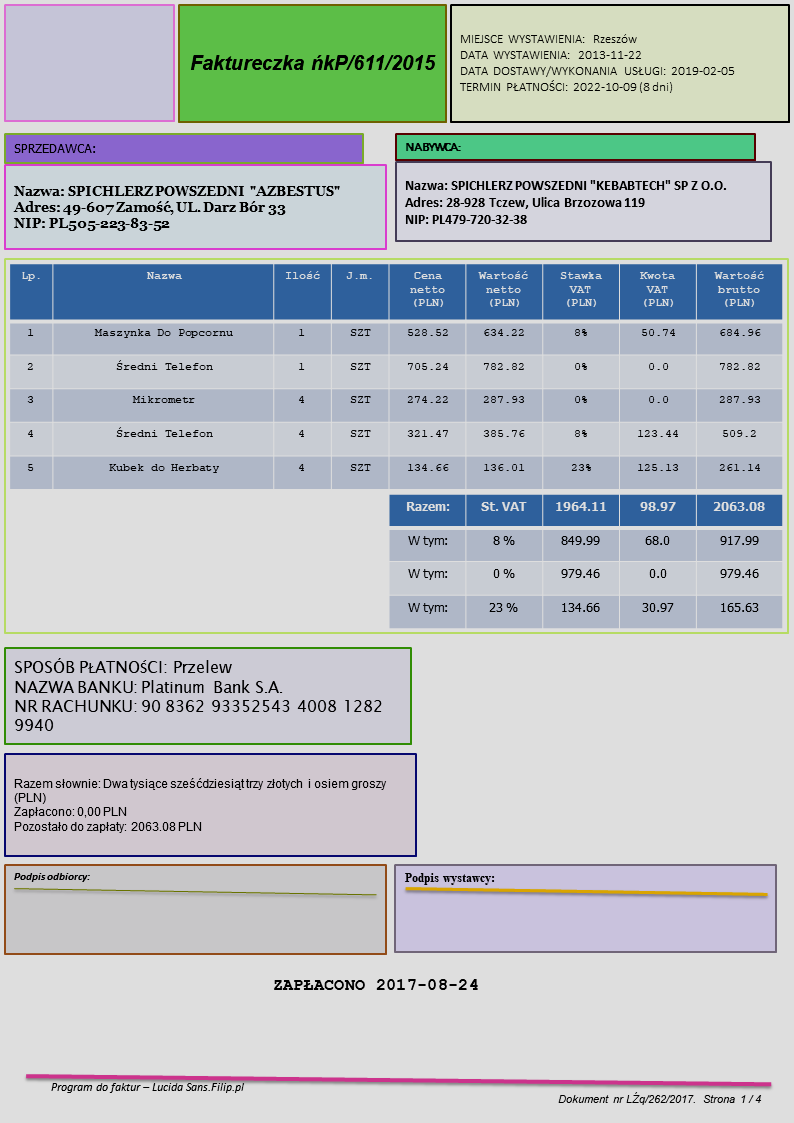Table: (7, 261, 785, 492), (385, 491, 786, 630)
TextBox: (10, 653, 389, 737), (10, 773, 394, 836), (456, 27, 742, 98), (10, 178, 342, 237), (401, 173, 733, 232), (187, 47, 439, 78), (552, 1087, 767, 1112), (270, 974, 482, 996), (45, 1076, 249, 1098), (400, 866, 498, 892), (8, 136, 97, 159), (6, 865, 91, 889), (401, 136, 463, 157)
